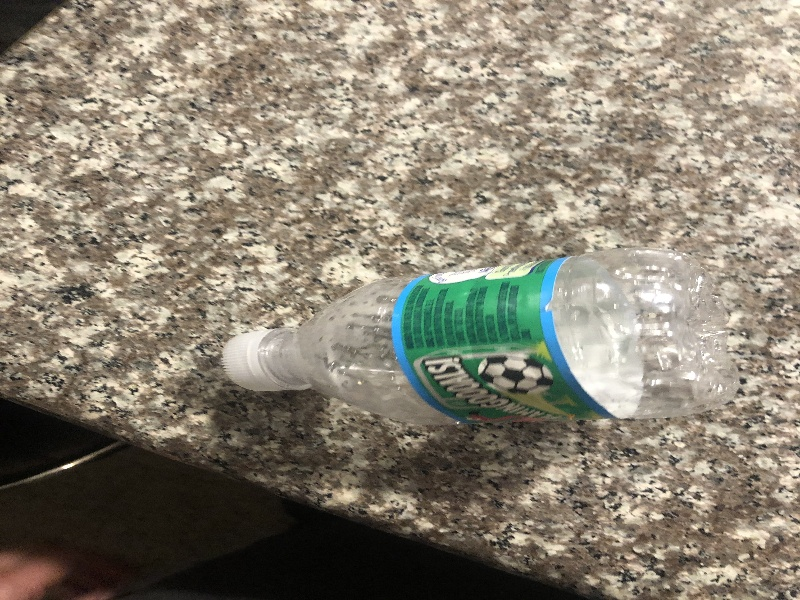plastic: (221, 242, 745, 440)
